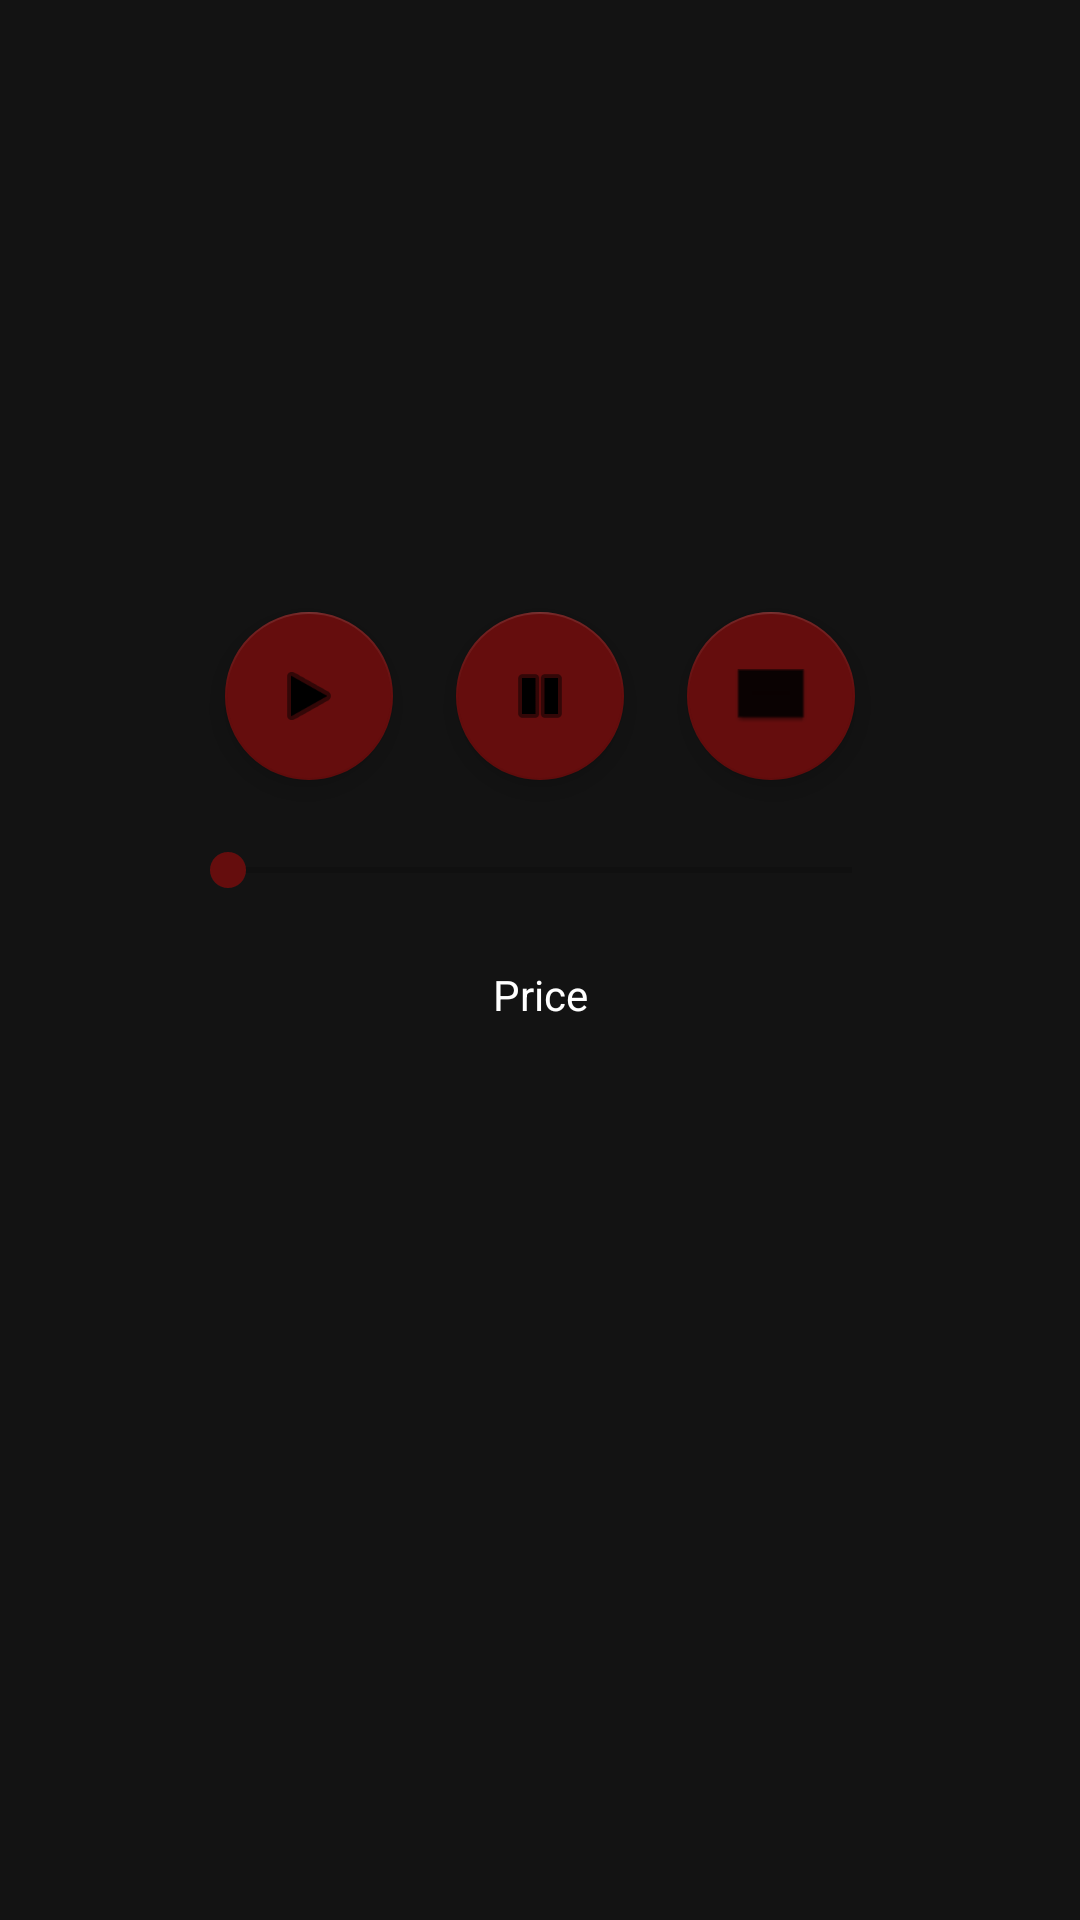

Screen size 1080 x 1920. Icon name, then its center in pixels as (x=x, y=y):
pause: (x=540, y=696)
play: (x=309, y=696)
